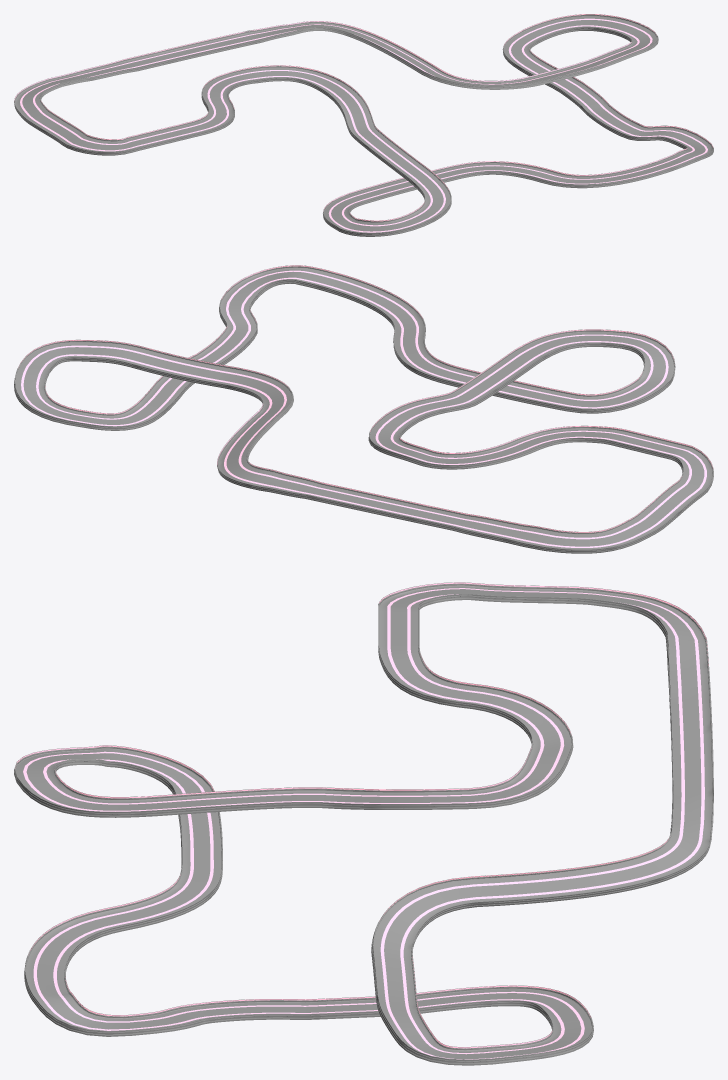
Rendered from Track.FBX.
3 views of the same model, one above another, from view 1: azimuth 30°, elevation 25°; view 2: azimuth 150°, elevation 25°; view 3: azimuth 270°, elevation 25° (orthographic). The views are drawn at different scales.
Parts seen in each view (by area): view 1: Cube.000; view 2: Cube.000; view 3: Cube.000.
Boxes of the visible parts, x1,y1,x2,y2 form: Cube.000: (14,14,713,236); Cube.000: (14,265,713,553); Cube.000: (14,582,713,1065).
Size of the model in its own units: 11110 by 971 by 7505.
